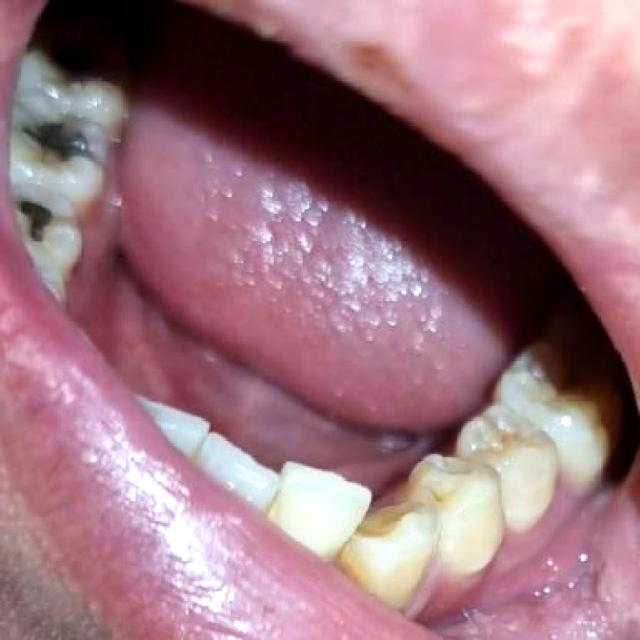Plaque: (464, 415, 536, 464), (420, 480, 454, 506), (37, 142, 57, 177)
